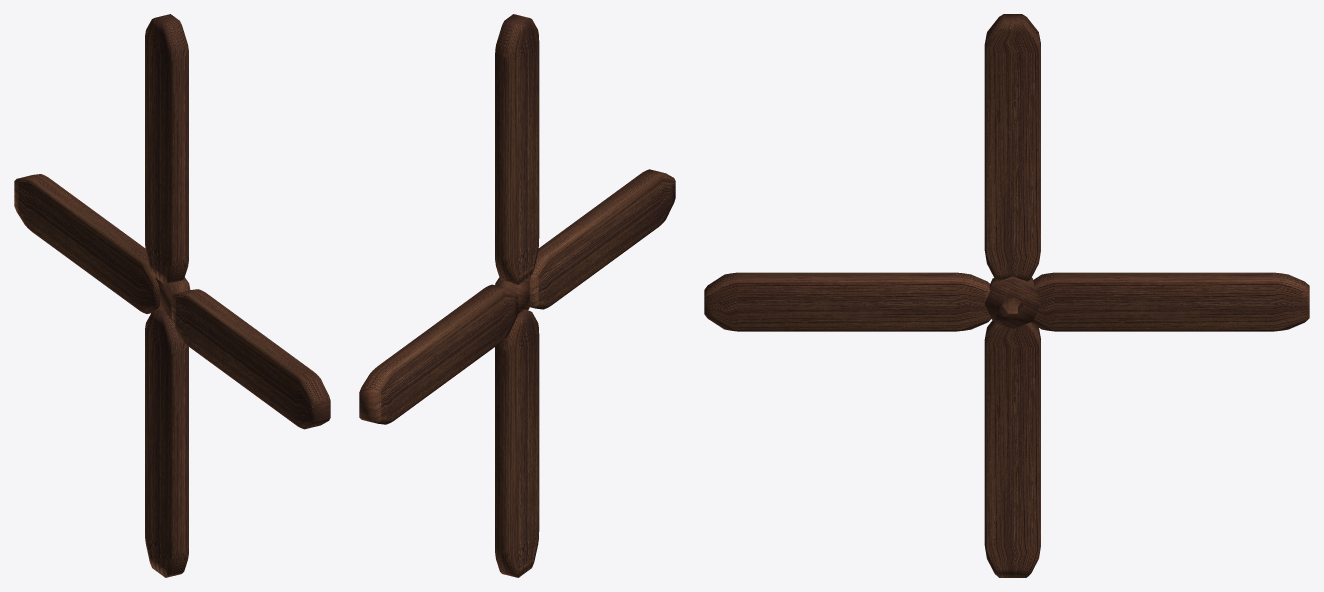
Rendered from WindmillWheel.fbx.
The picture shows the model from 3 angles, left to right: view 1: azimuth 30°, elevation 25°; view 2: azimuth 150°, elevation 25°; view 3: azimuth 270°, elevation 25°; orthographic projection.
Visible parts, largest first — view 1: Cube.002; view 2: Cube.002; view 3: Cube.002.
Part boxes in pixels (box(x1,y1,x2,y2)): Cube.002: box(14, 14, 330, 577); Cube.002: box(359, 14, 675, 577); Cube.002: box(704, 14, 1309, 577).
Bounding box in the file's own units: 36.92 × 919 × 906.
